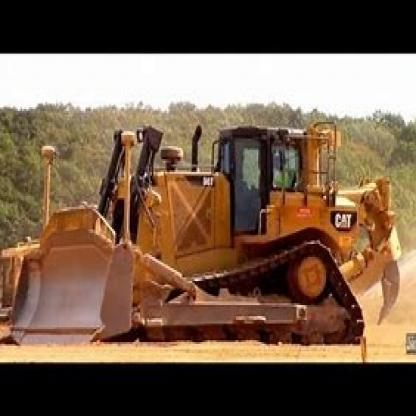bull_dozer/loader/grader: (6, 98, 414, 355)
